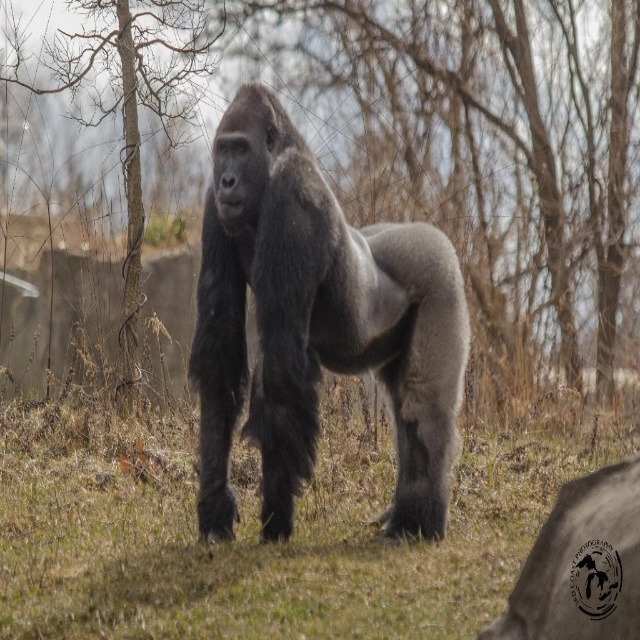Monkey: (170, 68, 461, 574)
